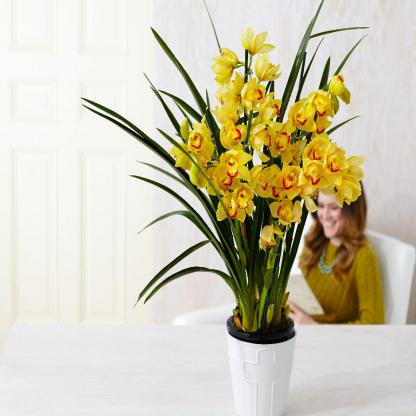vase: (224, 304, 298, 416)
